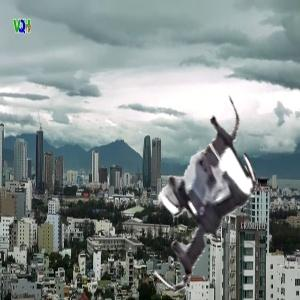drone: (120, 121, 283, 284)
